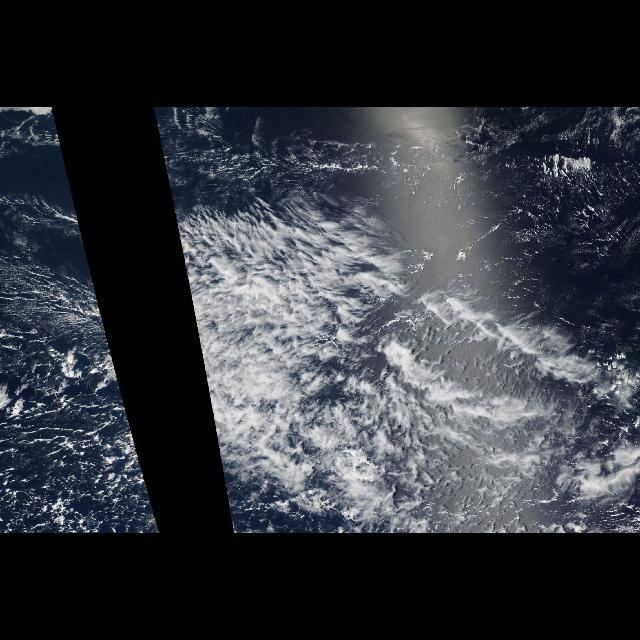Gravel: (1, 321, 161, 533), (195, 321, 279, 525)
